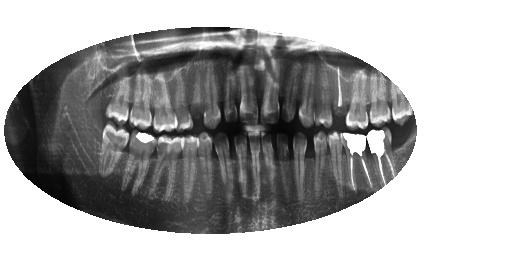i10decay: (233, 133, 249, 194)
i11decay: (213, 132, 232, 194)
i12healthy: (198, 129, 213, 195)
i13healthy: (180, 133, 200, 203)
i14healthy: (149, 136, 184, 203)
i15healthy: (123, 129, 159, 196)
i16healthy: (99, 124, 132, 179)
i1loss: (390, 123, 414, 169)
i2healthy: (367, 126, 396, 185)
i3healthy: (341, 130, 373, 194)
i4healthy: (327, 130, 344, 197)
i5healthy: (313, 130, 329, 197)
i6decay: (292, 131, 309, 199)
i7decay: (277, 133, 289, 195)
i8decay: (261, 132, 276, 195)
i9decay: (248, 128, 260, 194)
u10decay: (223, 66, 238, 122)
u11healthy: (204, 62, 222, 129)
u12chipped: (191, 68, 205, 121)
u13healthy: (171, 68, 195, 132)
u14healthy: (150, 72, 179, 134)
u15healthy: (129, 71, 153, 130)
u16healthy: (104, 70, 133, 125)
u1healthy: (390, 82, 415, 126)
u2healthy: (369, 68, 392, 128)
u3healthy: (346, 68, 370, 130)
u4chipped: (332, 63, 350, 116)
u5healthy: (314, 61, 333, 125)
u6healthy: (299, 60, 315, 129)
u7decay: (279, 60, 298, 122)
u8decay: (261, 60, 281, 125)
u9decay: (239, 61, 259, 124)
